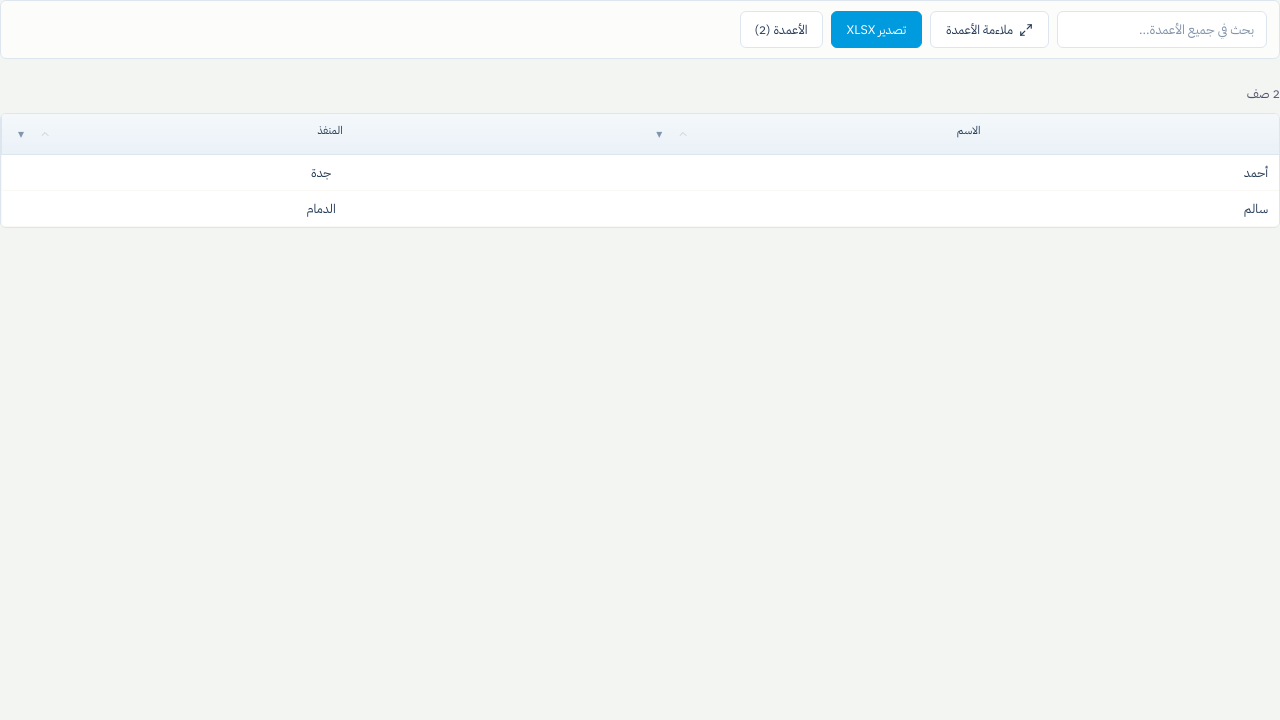
Scenario: DataTable — column picker focus trap (finding 11) › moves focus into the picker when it opens and closes it on Escape
Step 1. Click the button "الأعمدة (2)" → (781,30), box [740,11,822,48]
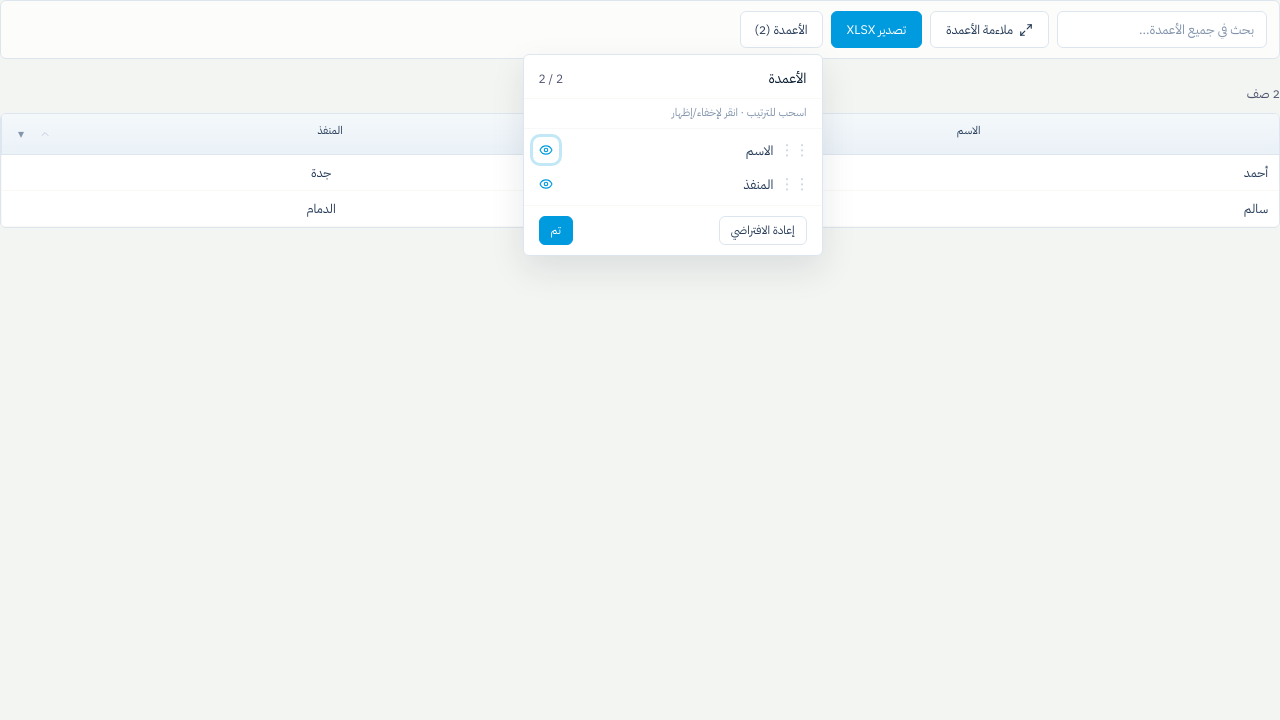
Step 2. Press Escape
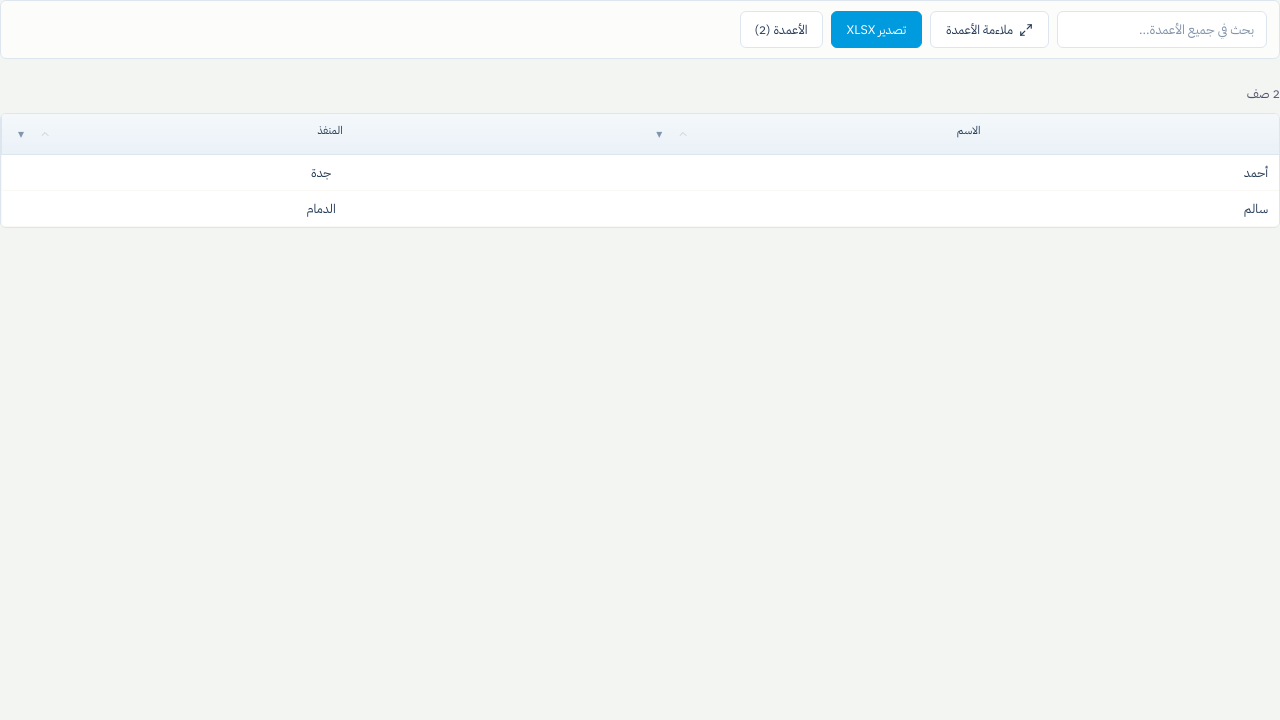
Check: the dialog is gone
